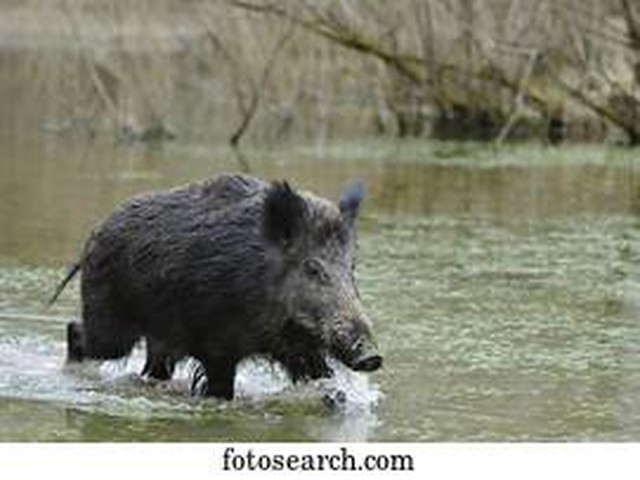Pig: (52, 170, 399, 402)
